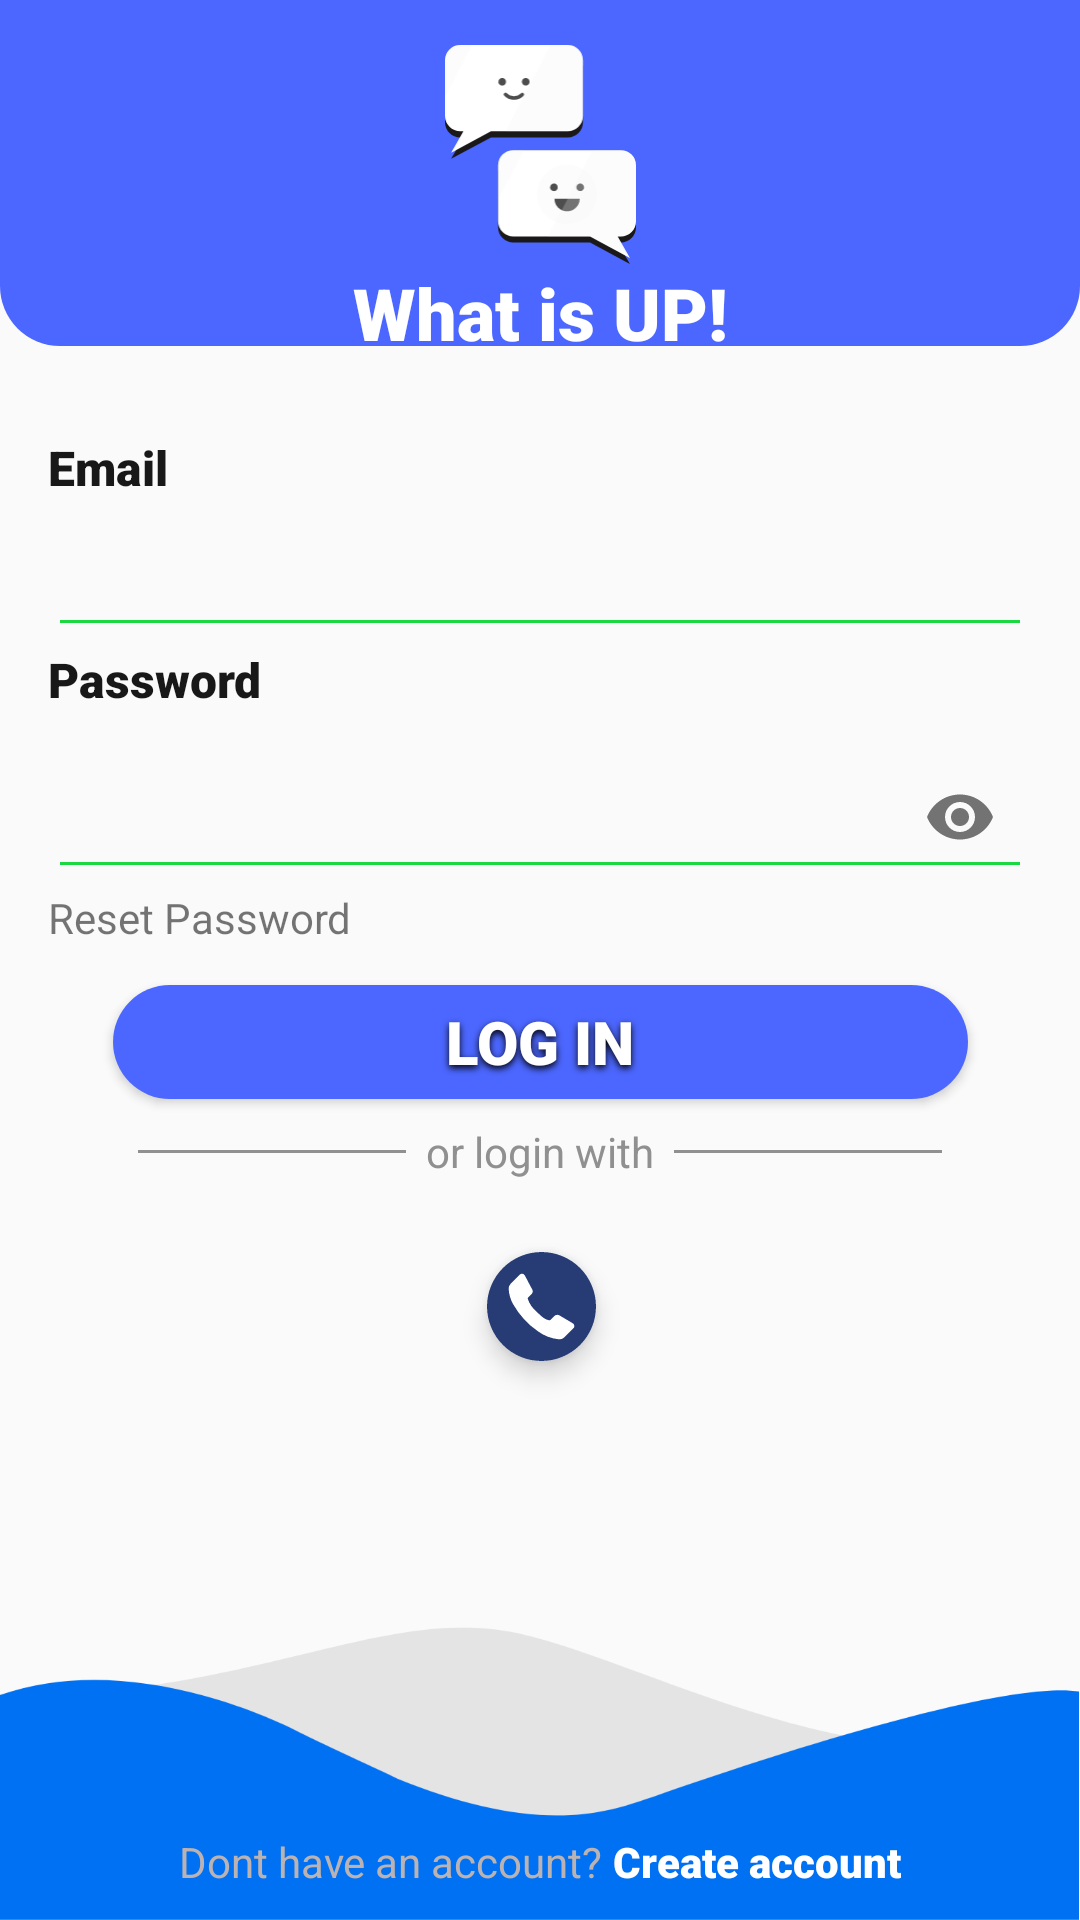

Named icons in this screenshot (1080px x 1920px) and their bounding boxes, box=[x1, y1, x2, y2]:
phone: box=[487, 1252, 596, 1361]
